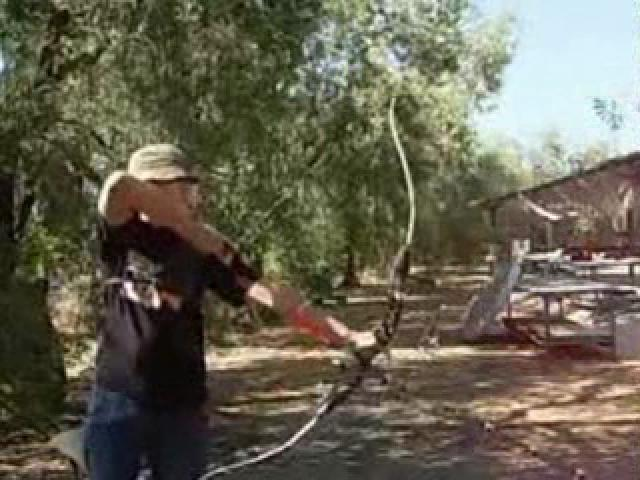I: (60, 128, 375, 480)
